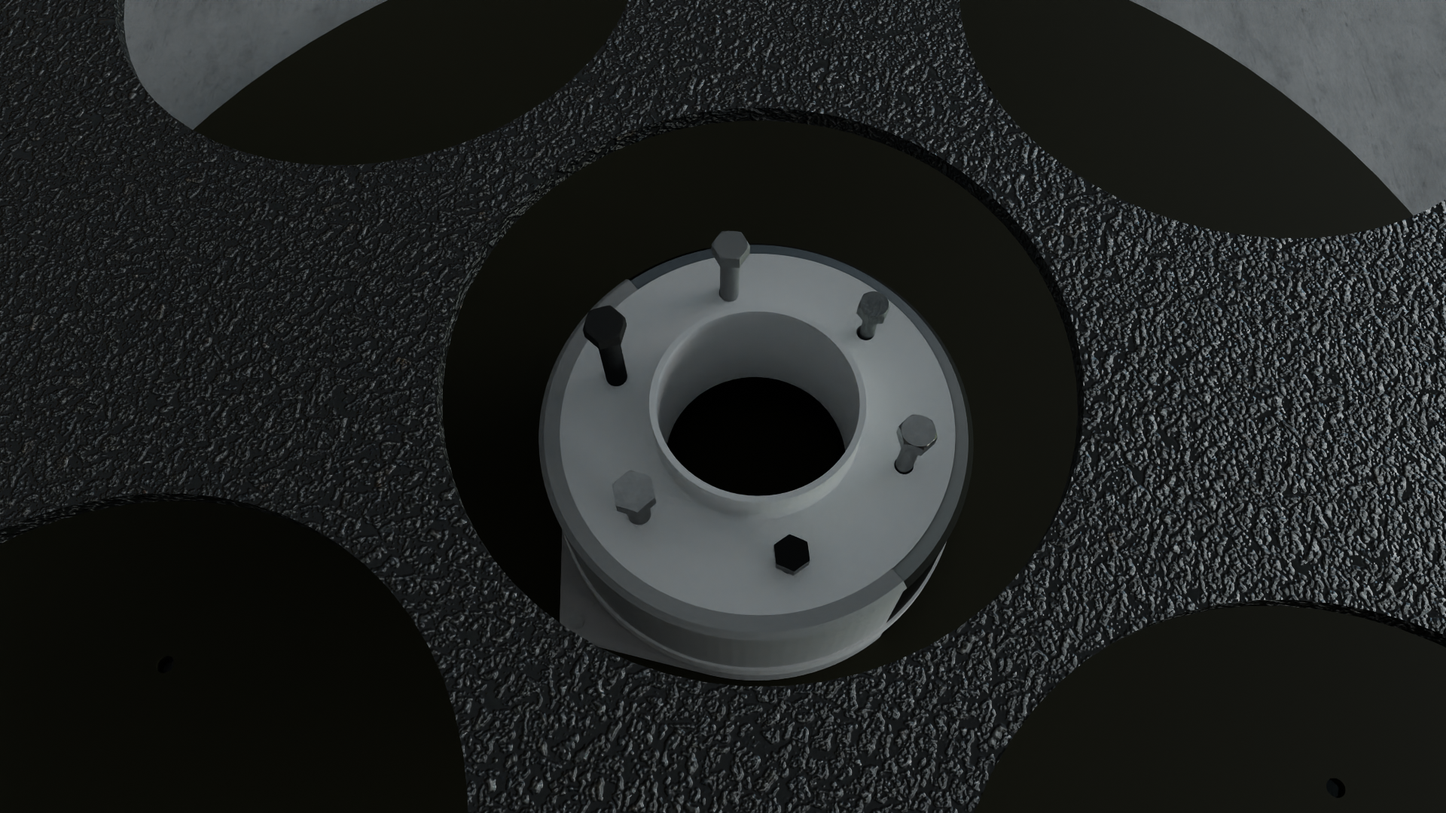bolt: (612, 470, 655, 513), (583, 305, 625, 343), (898, 415, 938, 450), (773, 534, 810, 571), (712, 231, 750, 260), (858, 291, 890, 318)
